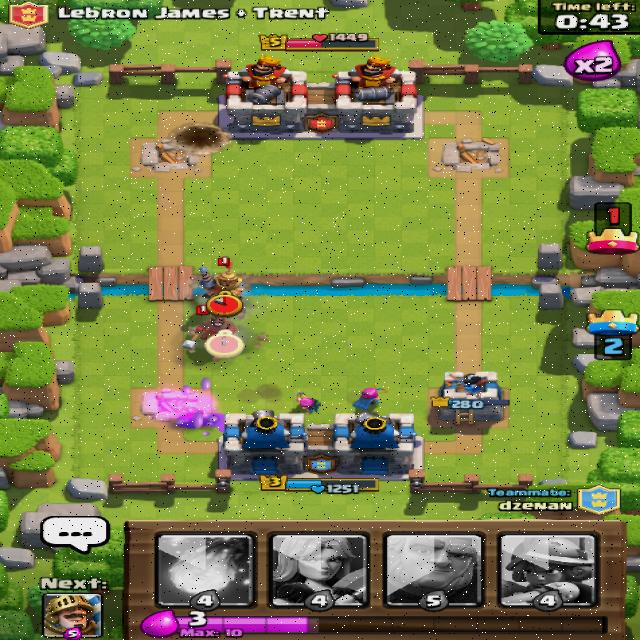Enemy-HogRider: (180, 304, 237, 356)
Enemy-Prince: (196, 256, 245, 315)
Player-Archer: (351, 382, 388, 411), (292, 390, 320, 414)
